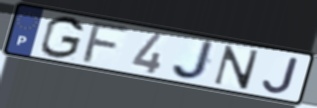4: (129, 31, 164, 75)
F: (79, 21, 134, 65)
G: (38, 15, 87, 60)
J: (170, 40, 218, 82), (261, 56, 302, 96)
N: (211, 44, 262, 91)
